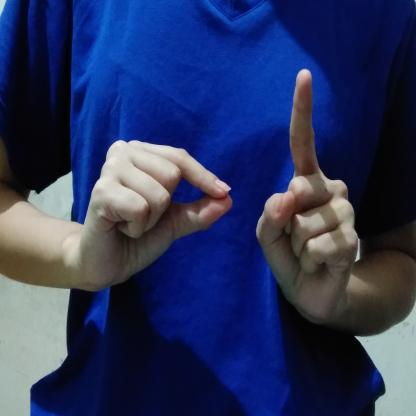son: (76, 66, 362, 335)
